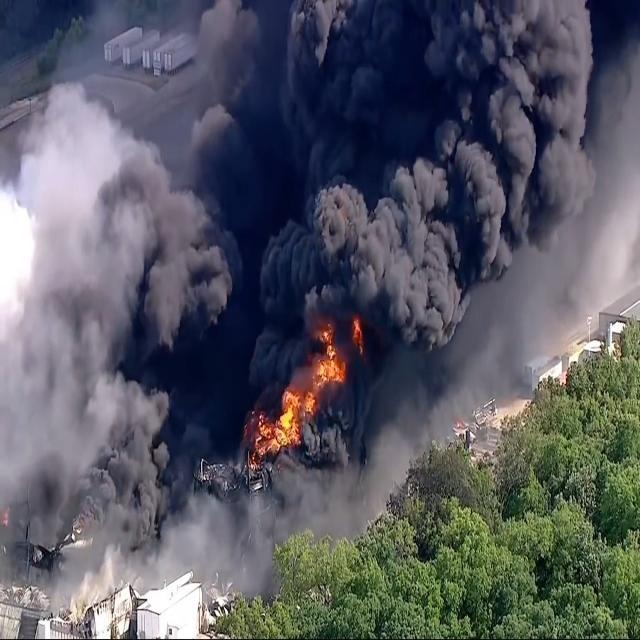Fire: (241, 311, 366, 475)
Smoke: (250, 0, 589, 491), (0, 78, 244, 560)
